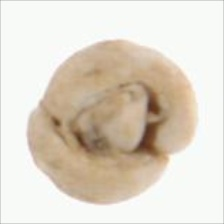L3: (63, 84, 163, 163)
L4: (27, 39, 196, 206)
